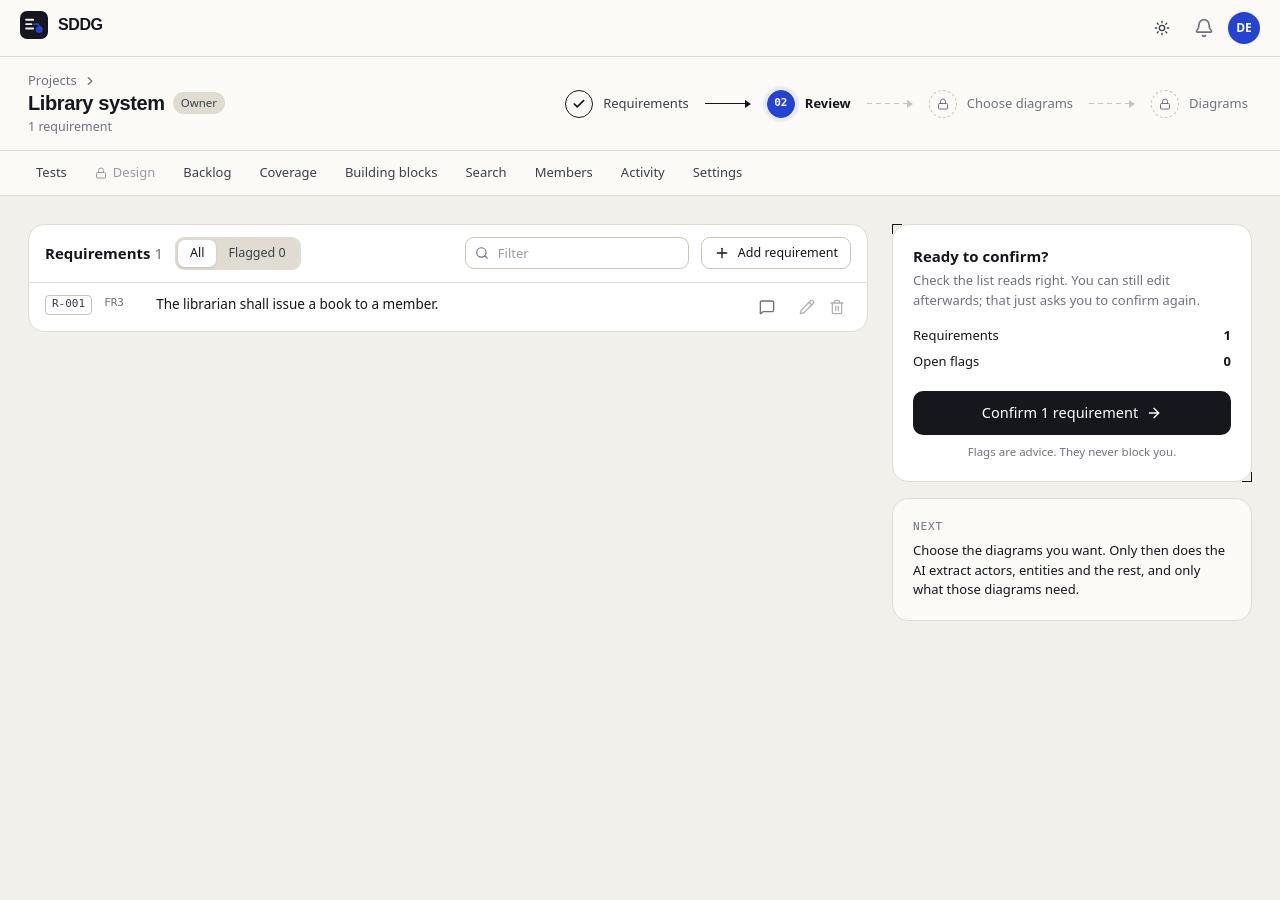
Test case: Comments panel › shows the requirement and "No comments yet." when there are none
Click the button named "Comments on R-001" at (767, 306), box [753,292,781,320]
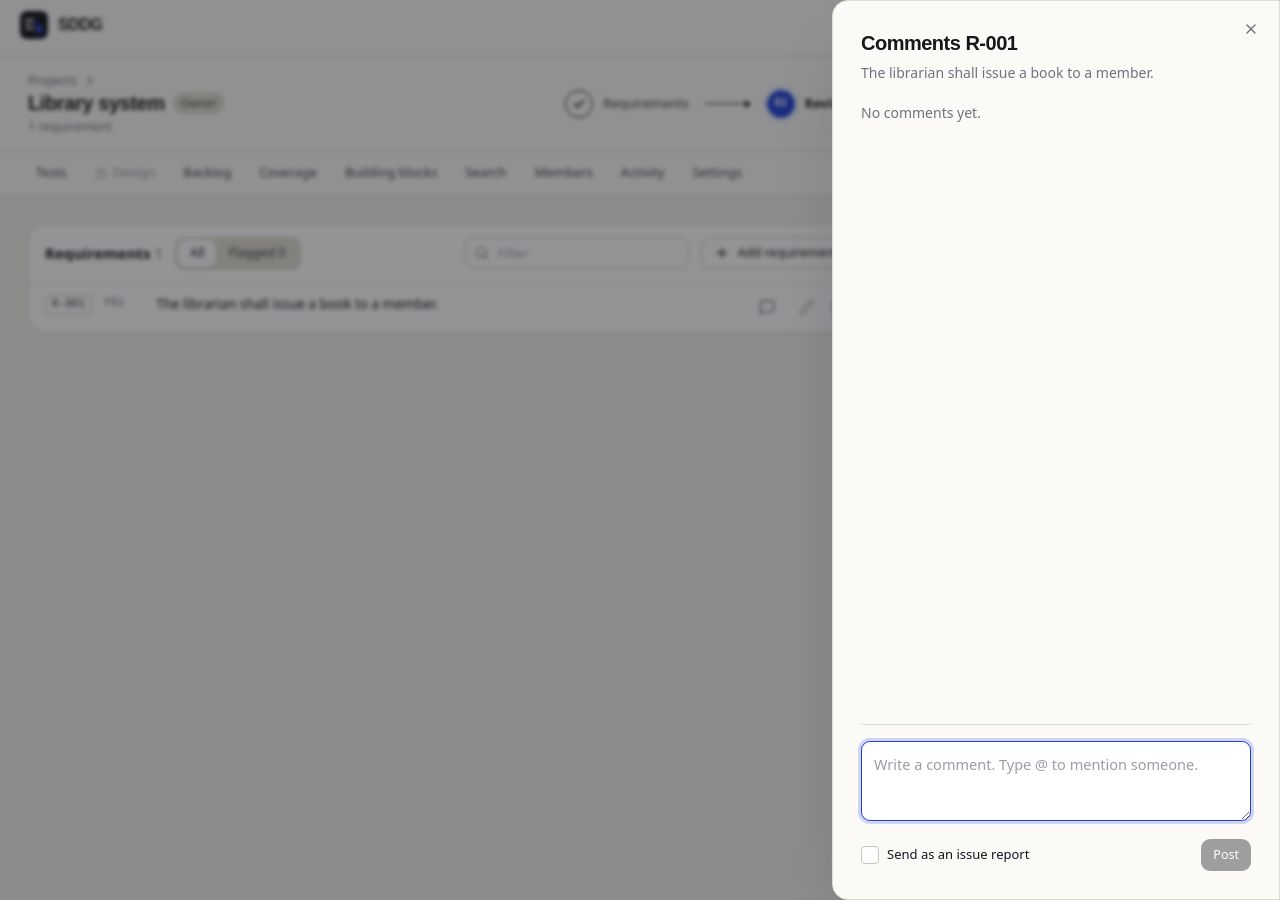
Check: the text "The librarian shall issue a book to a member." is shown, box [861,63,1154,82]
Check: the text "No comments yet." is shown, box [861,103,981,122]
Check: the button "Post" is disabled, box [1201,839,1251,871]
